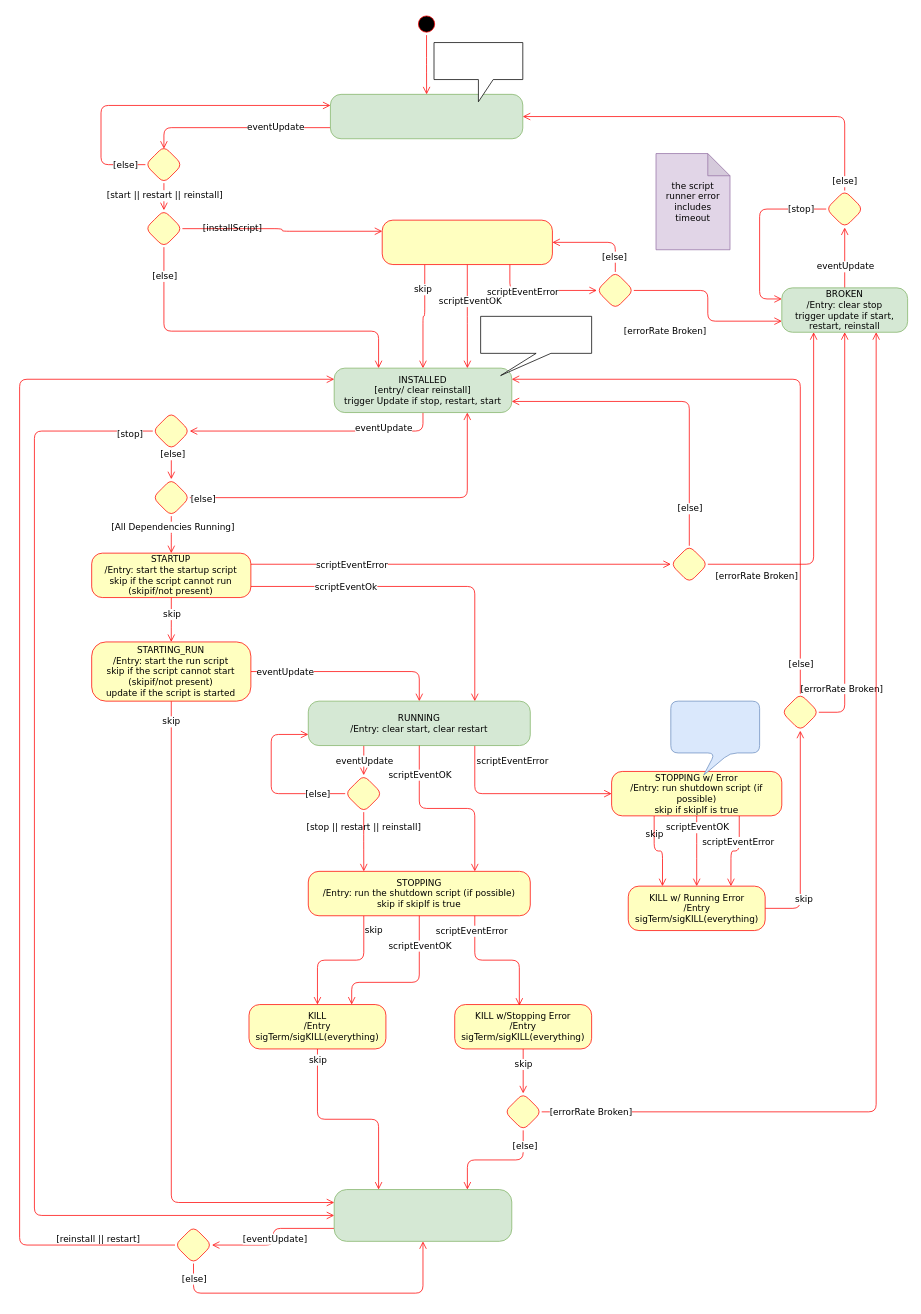
Some shapes in this 921 by 1314 pixel diagram are drawn without their labels. The box of each missing label's shape, as (x1, y1, x2, y2) in pixels:
All script completions just move to the error check.: (670, 700, 760, 775)
Exit Installed when All dependencies are "good": (480, 316, 592, 376)
FINISHED [entry/ clear stop: (333, 1189, 512, 1241)
INSTALLING /Entry: run install Script skip if skipIf is true: (381, 219, 552, 265)
It is possible to park in each green state: (433, 42, 523, 102)
NEW trigger update if start, restart, reinstall: (330, 94, 523, 139)
